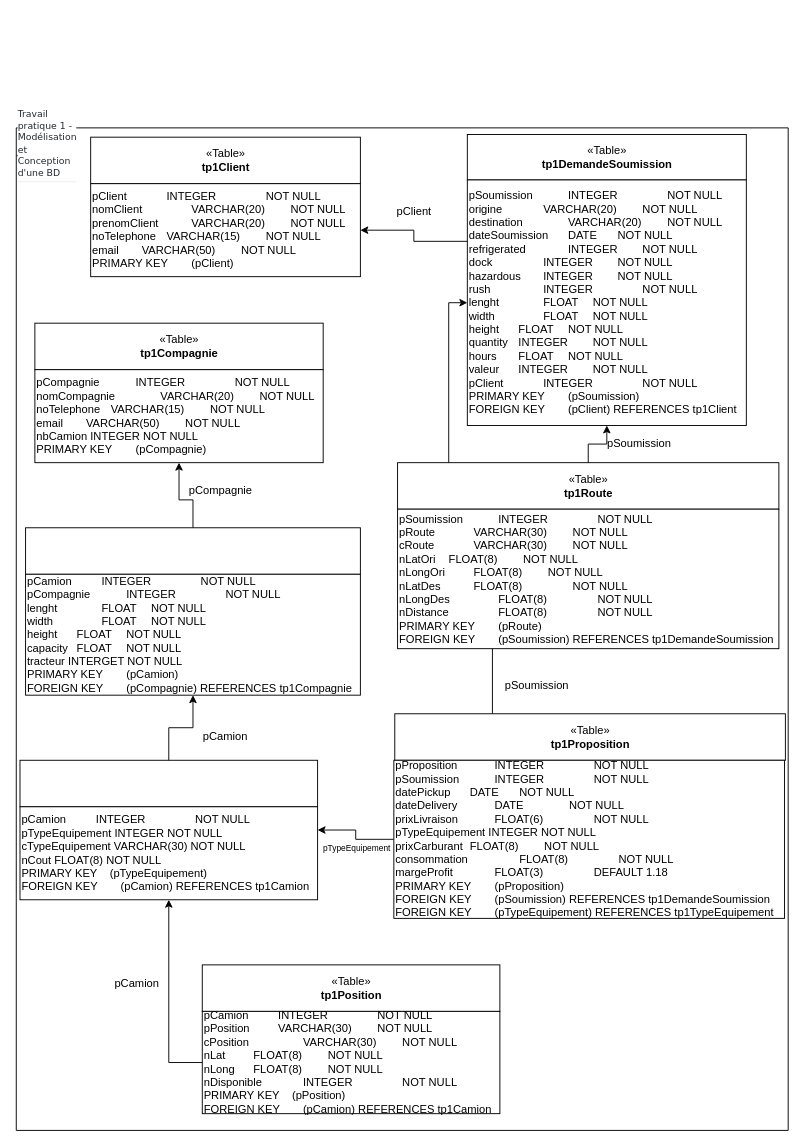
This 804x1147 diagram has some shape labels left out. The centre of each missing label's shape, as x and y in pixels:
"«Table» tp1Camion" belongs at point 192,550.
"«Table» tp1TypeEquipement" belongs at point 168,783.
